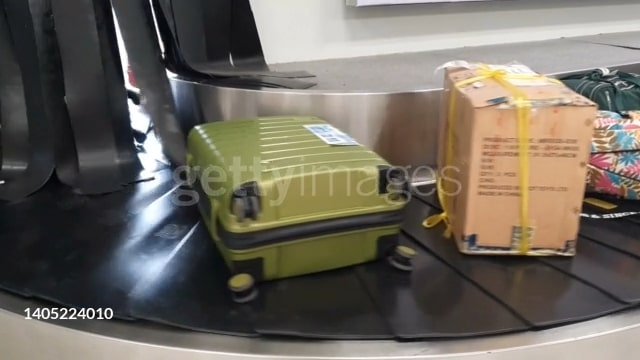baggage: (179, 115, 420, 299), (431, 53, 599, 262)
